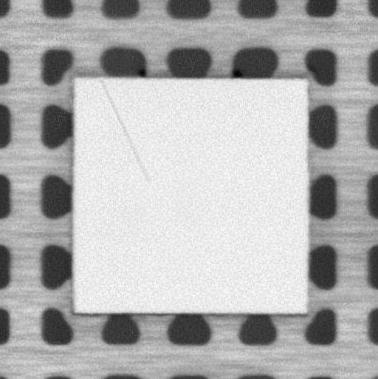DIE_CRACK: (99, 81, 151, 185)
